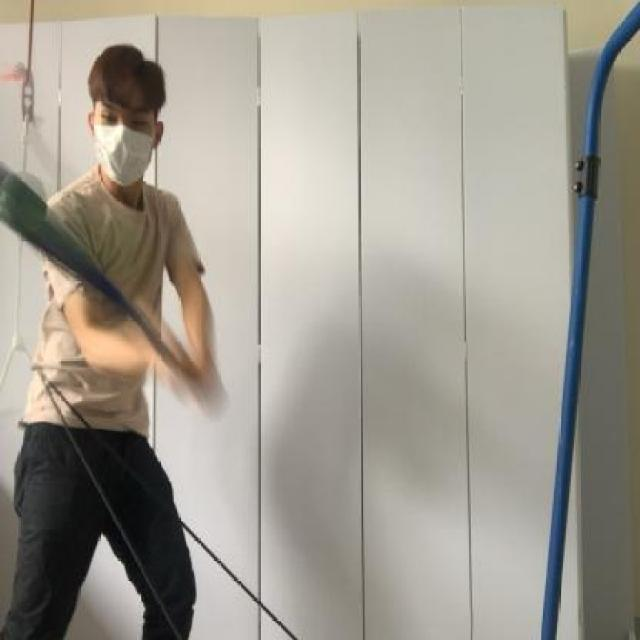baseball: (4, 168, 50, 235)
